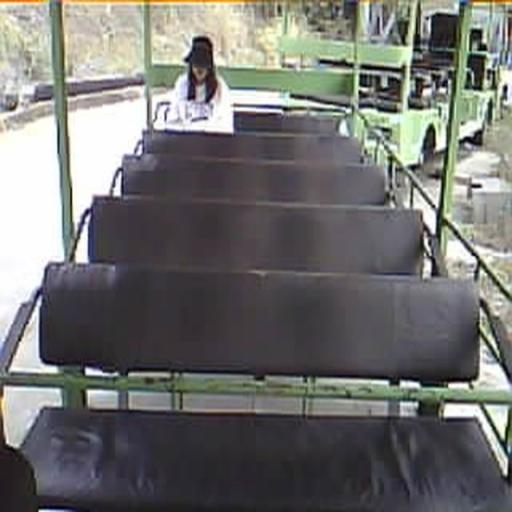persona: (165, 35, 235, 135)
